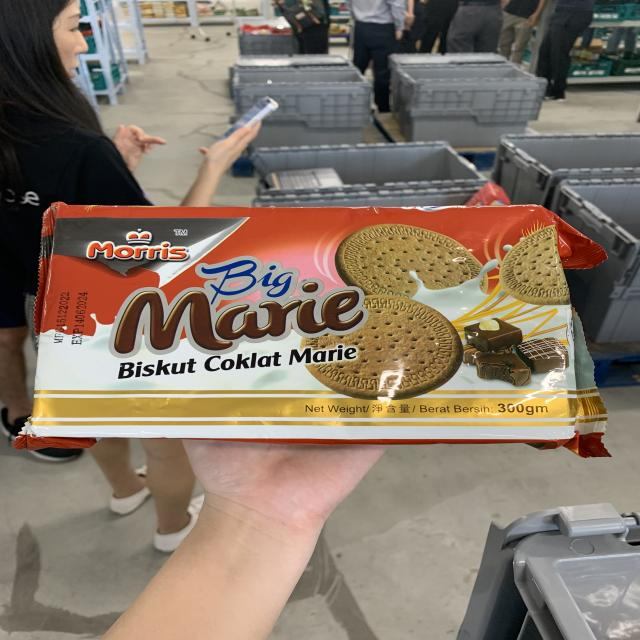object_name: (50, 206, 575, 441)
